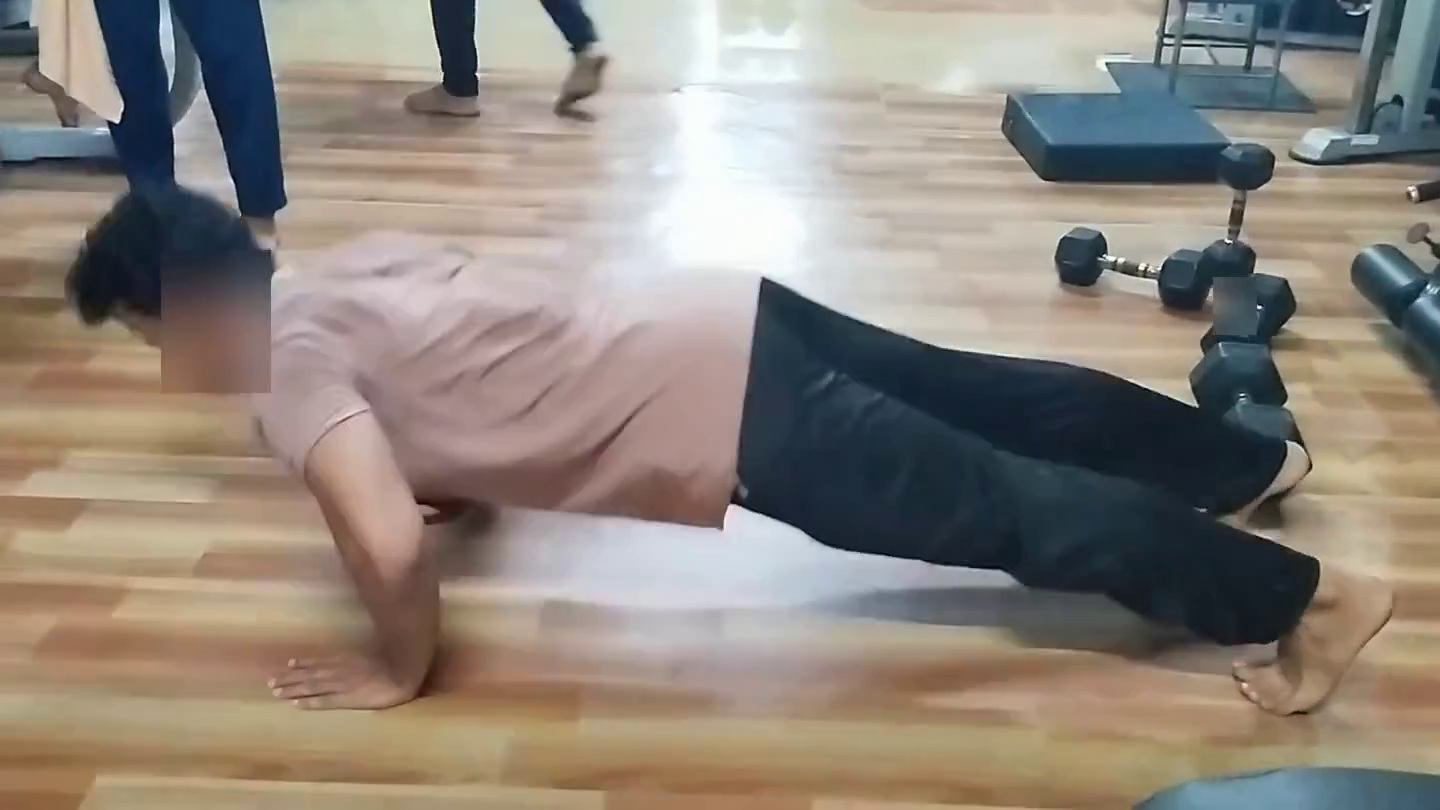push_up: (28, 176, 1437, 805)
